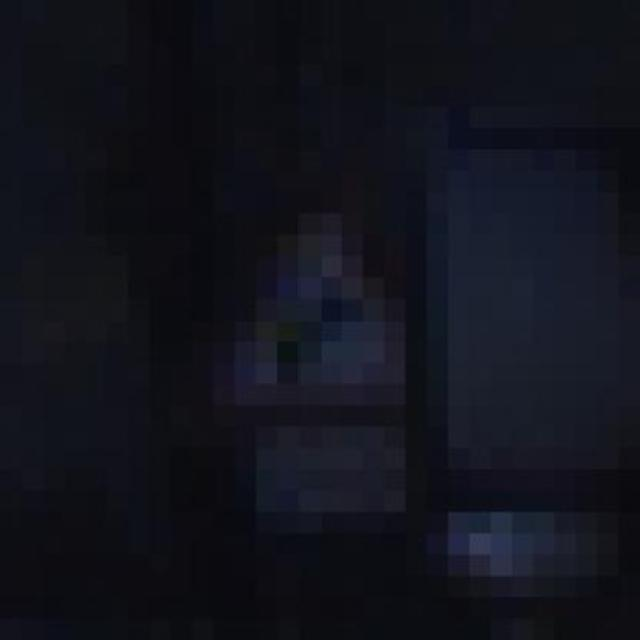Dangerous Rright Curve Ahead: (171, 170, 469, 448)
